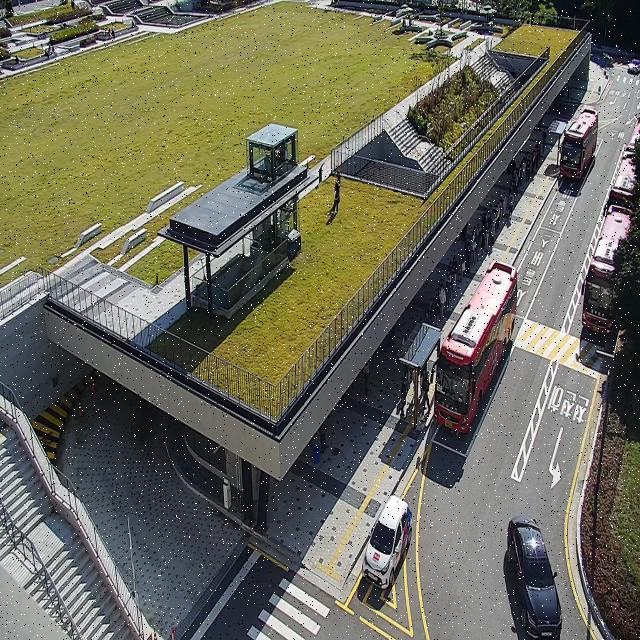queue: (412, 130, 547, 434)
